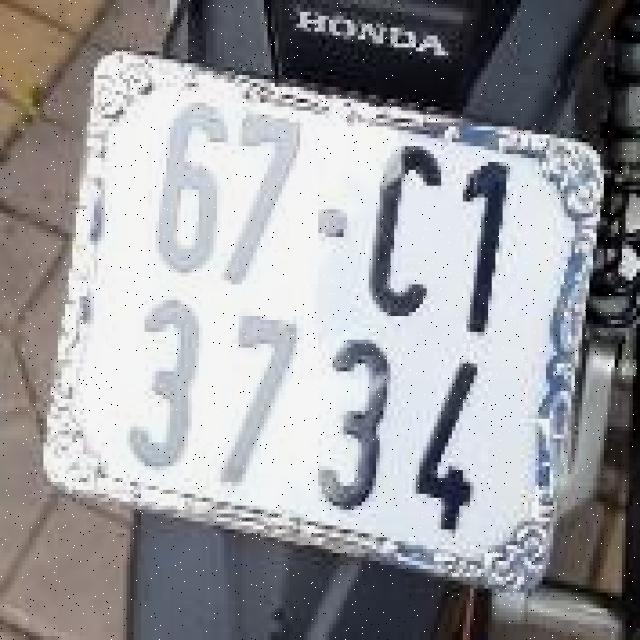1: (452, 146, 528, 387)
3: (112, 304, 203, 502), (320, 338, 396, 539)
4: (412, 369, 499, 579)
6: (152, 91, 235, 296)
7: (212, 304, 306, 534), (233, 117, 302, 302)
C: (362, 148, 452, 358)
